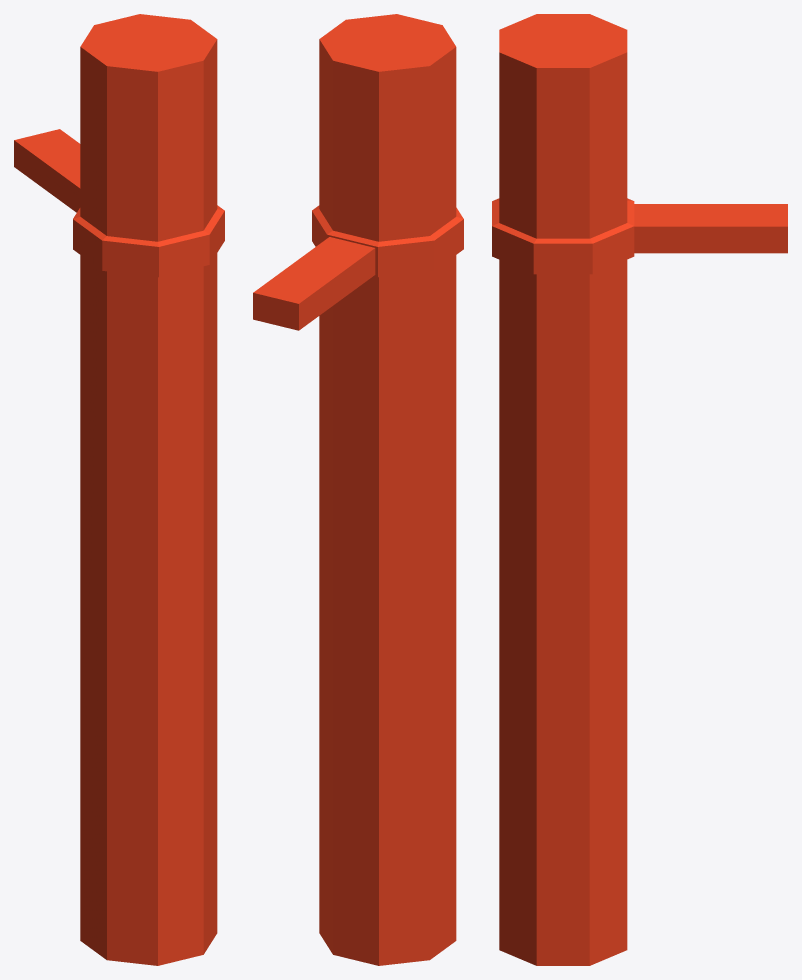
Rendered from SM_Gutter_Pipe_1m.fbx.
3 views of the same model, side by side, from view 1: azimuth 30°, elevation 25°; view 2: azimuth 150°, elevation 25°; view 3: azimuth 270°, elevation 25° (orthographic).
Parts seen in each view (by area): view 1: gutter-pipe-1m; view 2: gutter-pipe-1m; view 3: gutter-pipe-1m.
Boxes of the visible parts, x1,y1,x2,y2 form: gutter-pipe-1m: (14, 14, 224, 965); gutter-pipe-1m: (253, 14, 463, 965); gutter-pipe-1m: (492, 14, 787, 965).
Size of the model in its own units: 0.1436 by 1 by 0.2986.
